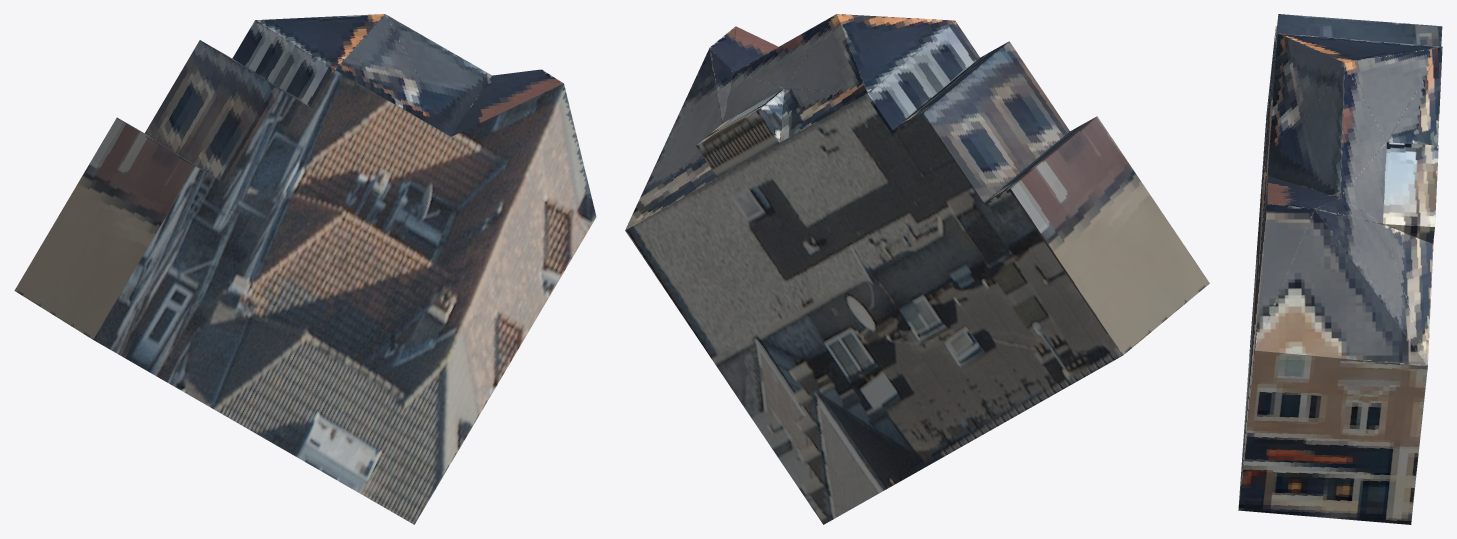
The picture shows the model from 3 angles, left to right: view 1: azimuth 30°, elevation 25°; view 2: azimuth 150°, elevation 25°; view 3: azimuth 270°, elevation 25°; orthographic projection.
Visible parts, largest first — view 1: BAG_0599100000760368 (×4); view 2: BAG_0599100000760368 (×5); view 3: BAG_0599100000760368 (×6).
Part boxes in pixels (left/top/right/bottom): BAG_0599100000760368 (×4): left=14, top=14, right=596, bottom=524; BAG_0599100000760368 (×5): left=625, top=14, right=1209, bottom=524; BAG_0599100000760368 (×6): left=1238, top=14, right=1442, bottom=524.
Size of the model in its own units: 18.79 by 17.18 by 6.74.
7 materials, 7 textured.
